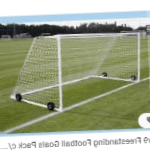goals: (8, 32, 143, 113)
